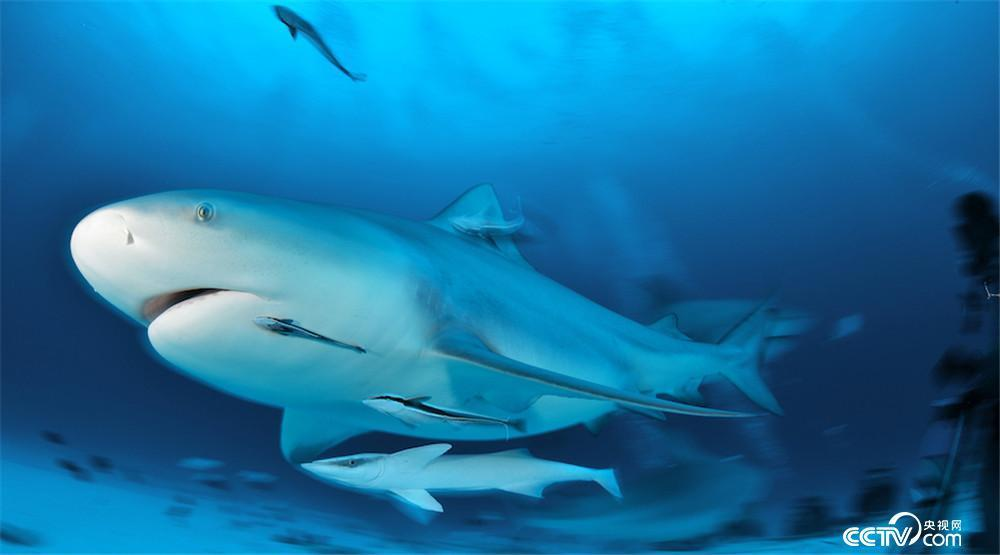fish: (62, 177, 799, 457)
